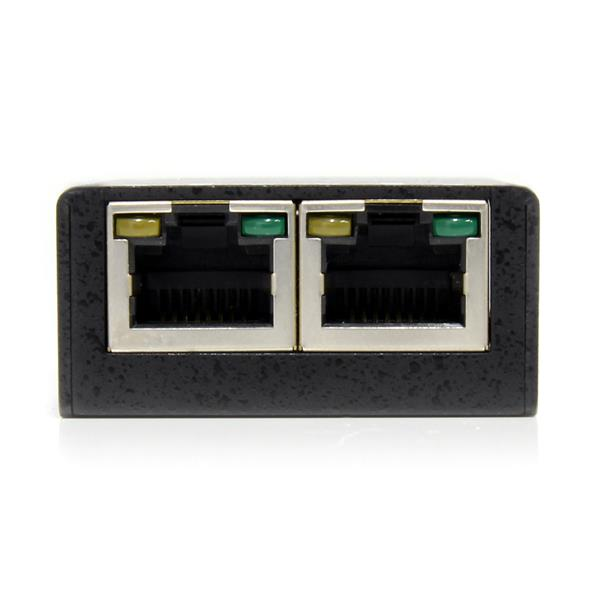lan: (109, 198, 297, 354), (304, 196, 489, 351)
